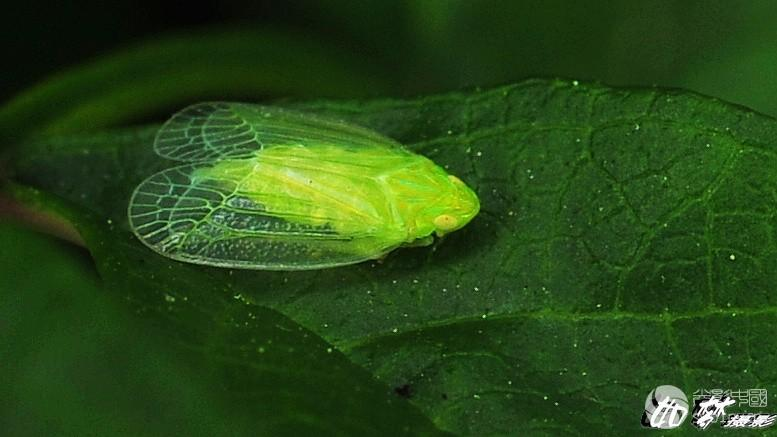Cicadellidae: (126, 100, 480, 271)
